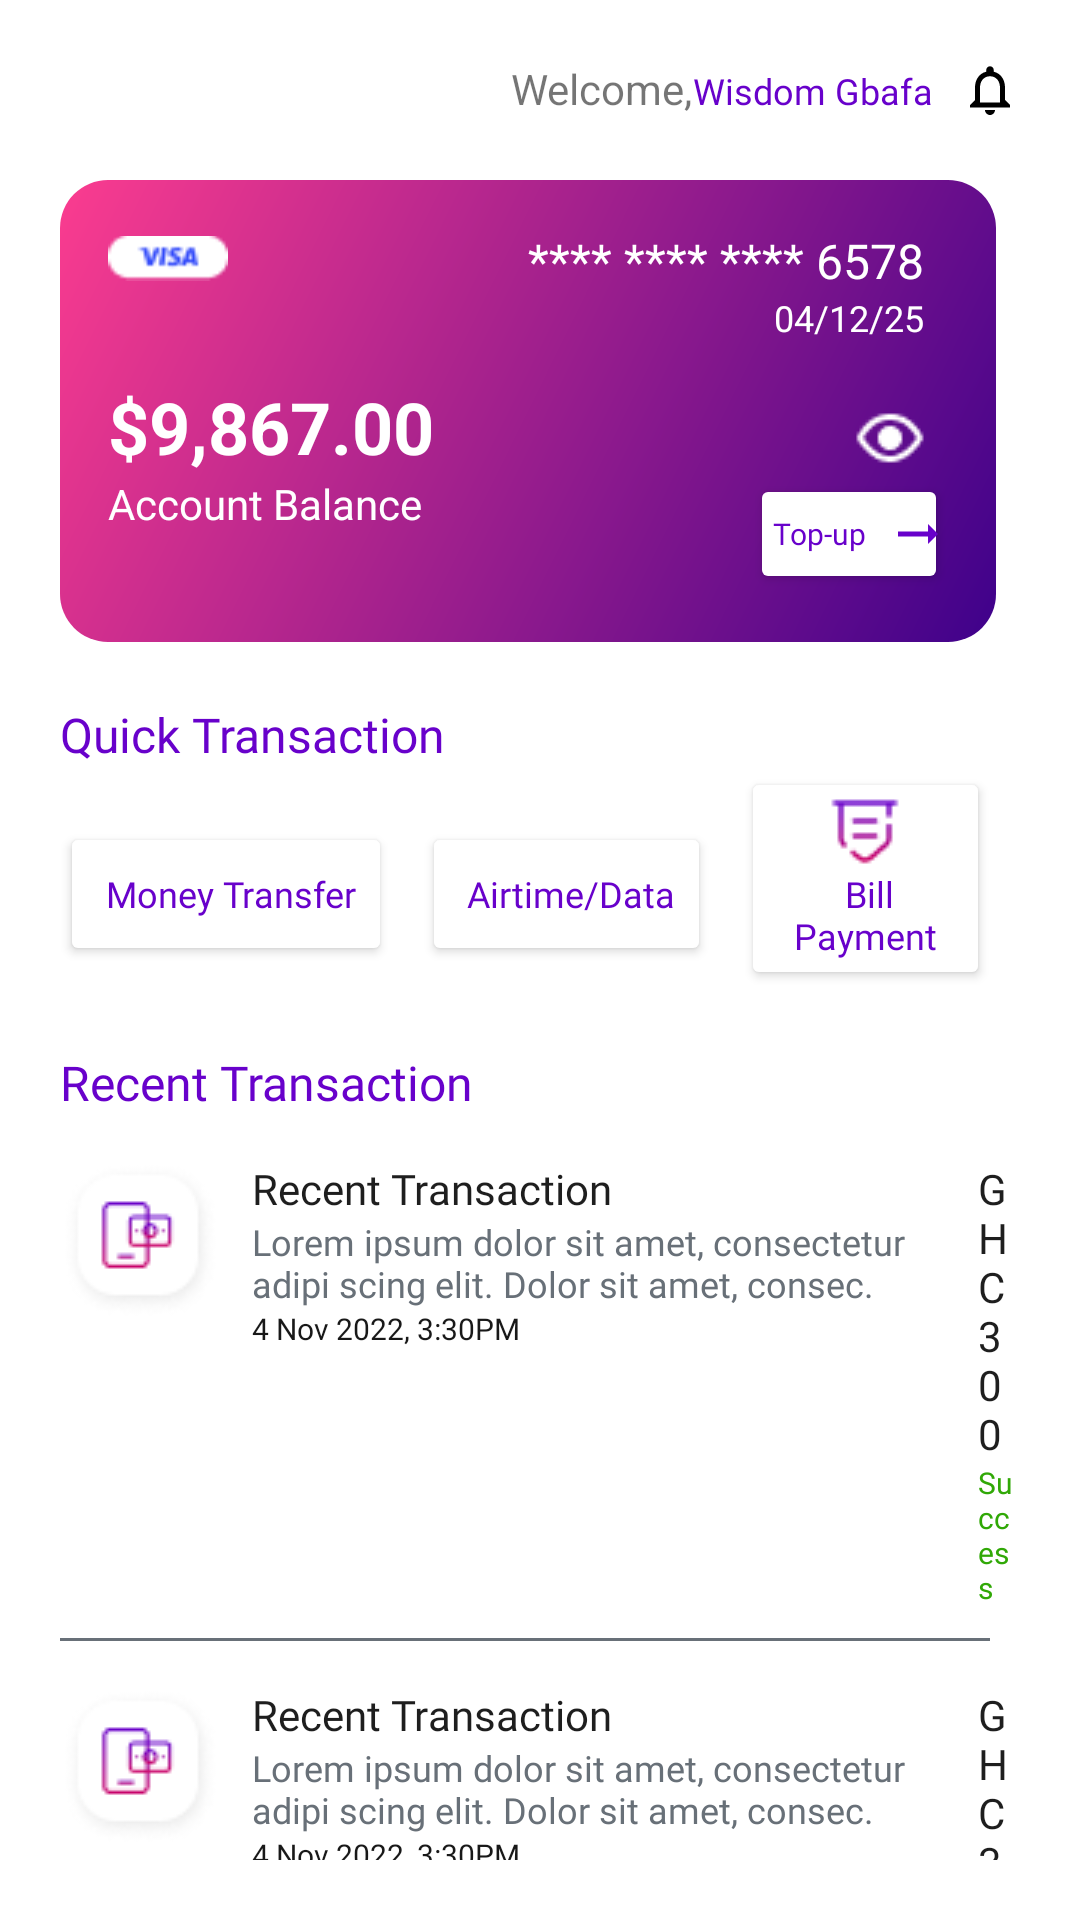

Screen size 1080px x 1920px. Icon name, then its box in pixels as bbox=[x1, y1, x2, y2]:
momo transfer: bbox=[101, 1201, 173, 1269], bbox=[101, 1727, 173, 1795]
notifications none: bbox=[970, 66, 1010, 115]
